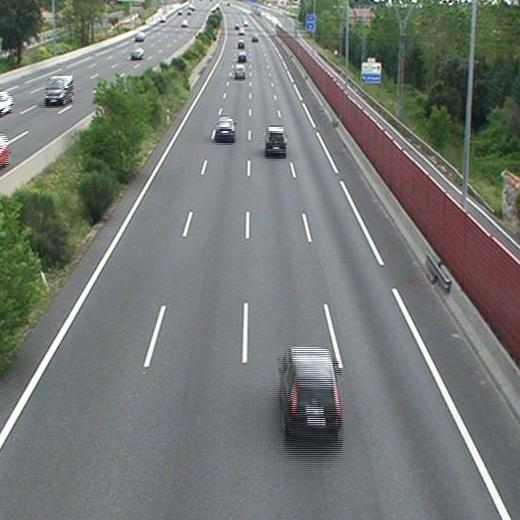car: (282, 348, 339, 427), (264, 127, 286, 154), (215, 117, 234, 140), (234, 63, 245, 78), (237, 40, 246, 49), (237, 53, 247, 61)
